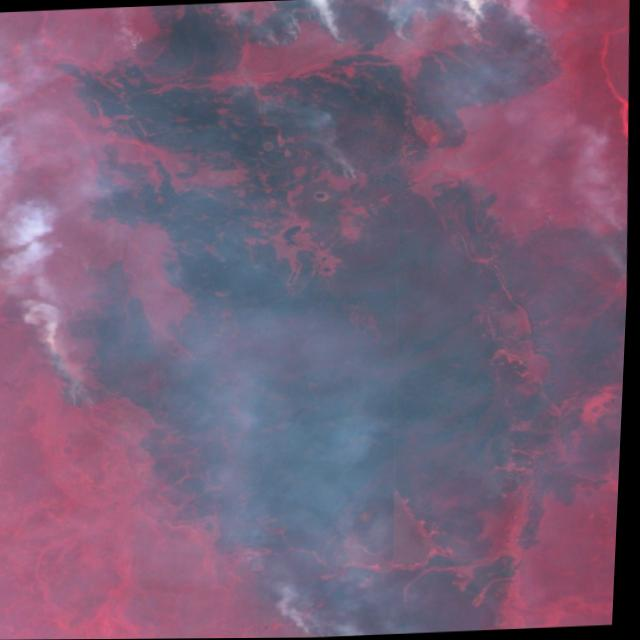fire: (120, 0, 565, 131), (30, 255, 127, 415), (250, 571, 349, 638)
